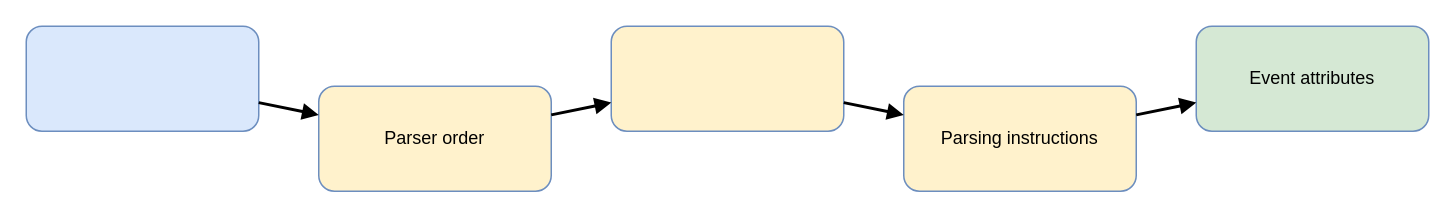
Some shapes in this 1455 by 218 pixel diagram are drawn without their labels. Here are the shapes that lost their labels. From the top down, the centre of each, then its label:
At (x=142, y=78): "Raw event".
At (x=727, y=78): "Recognizer".
